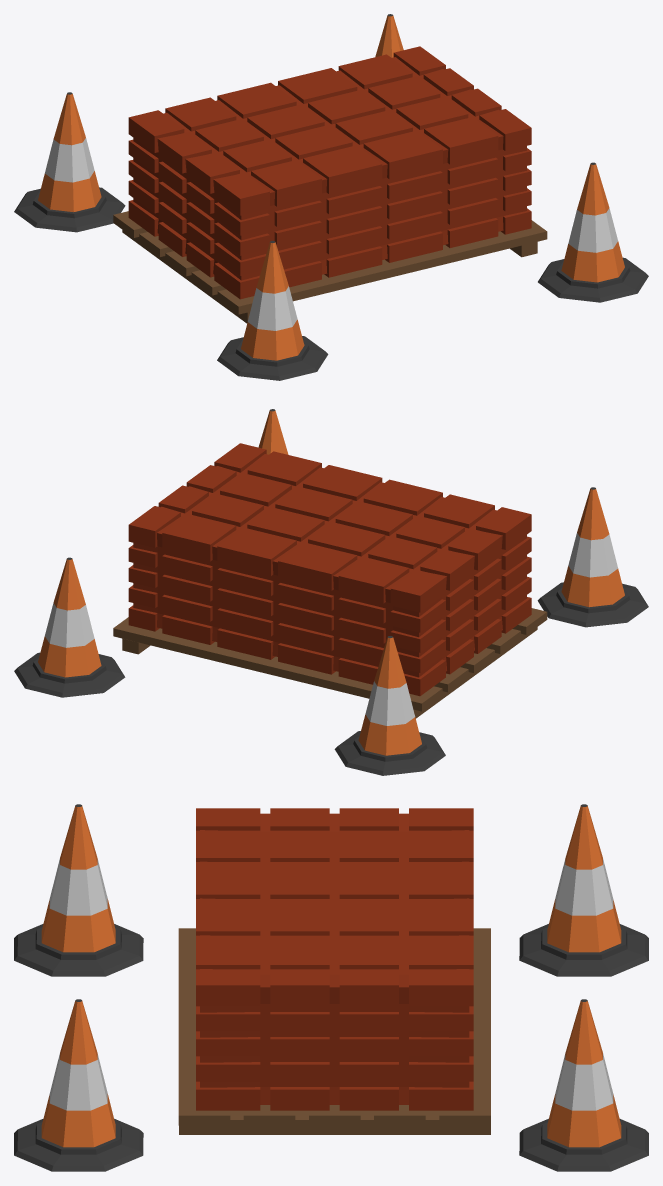
Rendered from D1_CONSTRUCTION_SITE_4.fbx.
3 views of the same model, one above another, from view 1: azimuth 30°, elevation 25°; view 2: azimuth 150°, elevation 25°; view 3: azimuth 270°, elevation 25° (orthographic). The views are drawn at different scales.
Visible parts, largest first — view 1: Escenario_en_construccion_4; view 2: Escenario_en_construccion_4; view 3: Escenario_en_construccion_4.
Part boxes in pixels (bbox=[...]): Escenario_en_construccion_4: bbox=[14, 14, 648, 380]; Escenario_en_construccion_4: bbox=[14, 409, 648, 775]; Escenario_en_construccion_4: bbox=[14, 804, 648, 1171].
Bounding box in the file's own units: 368 × 103 × 396.
